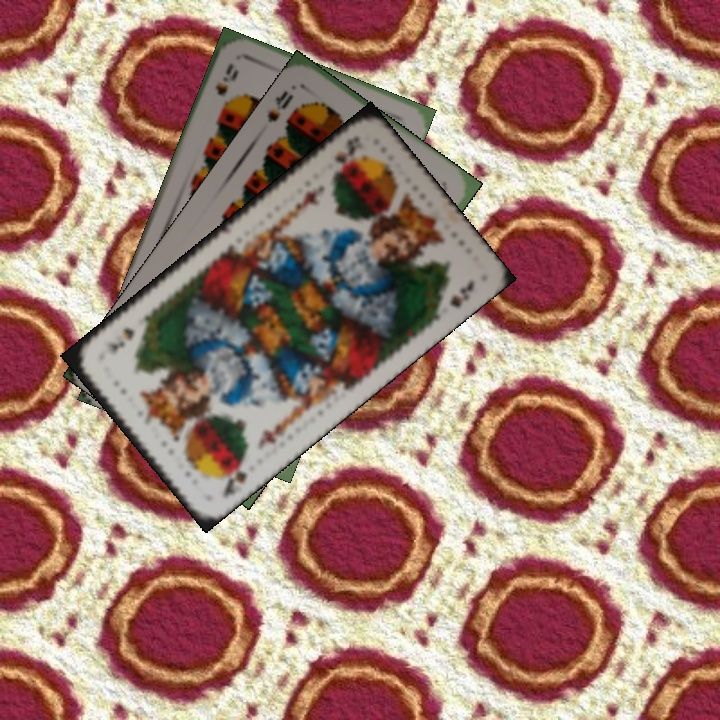S8: (263, 86, 296, 125)
S9: (210, 59, 241, 98)
SK: (219, 455, 250, 501), (330, 132, 365, 171)
